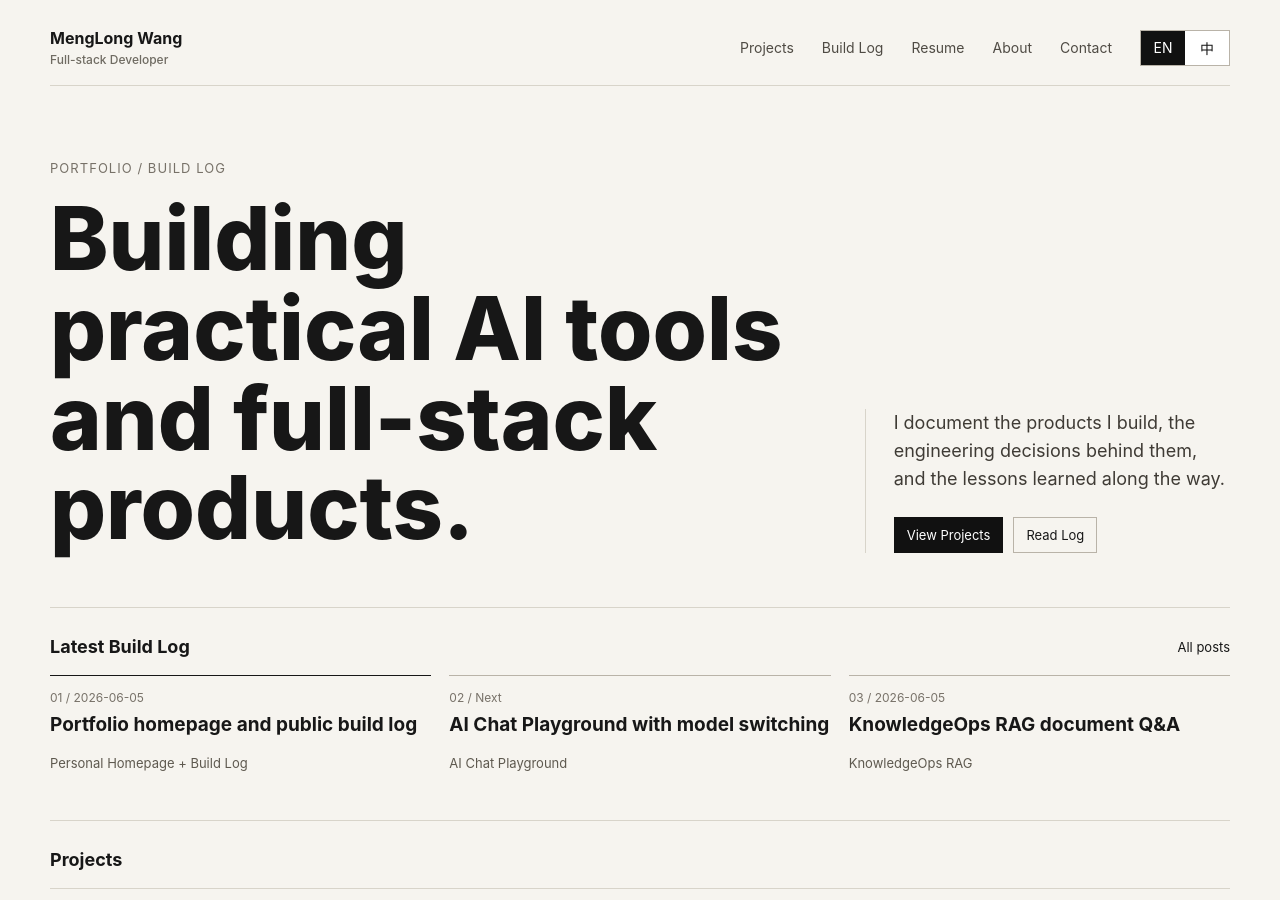
Test case: App › switches to Chinese and persists the preference
What coordinates should you click on to do the following:
click the button "中"
I would click on:
 (1207, 48)
Its box is [1185, 30, 1229, 64].
(page scrolled)
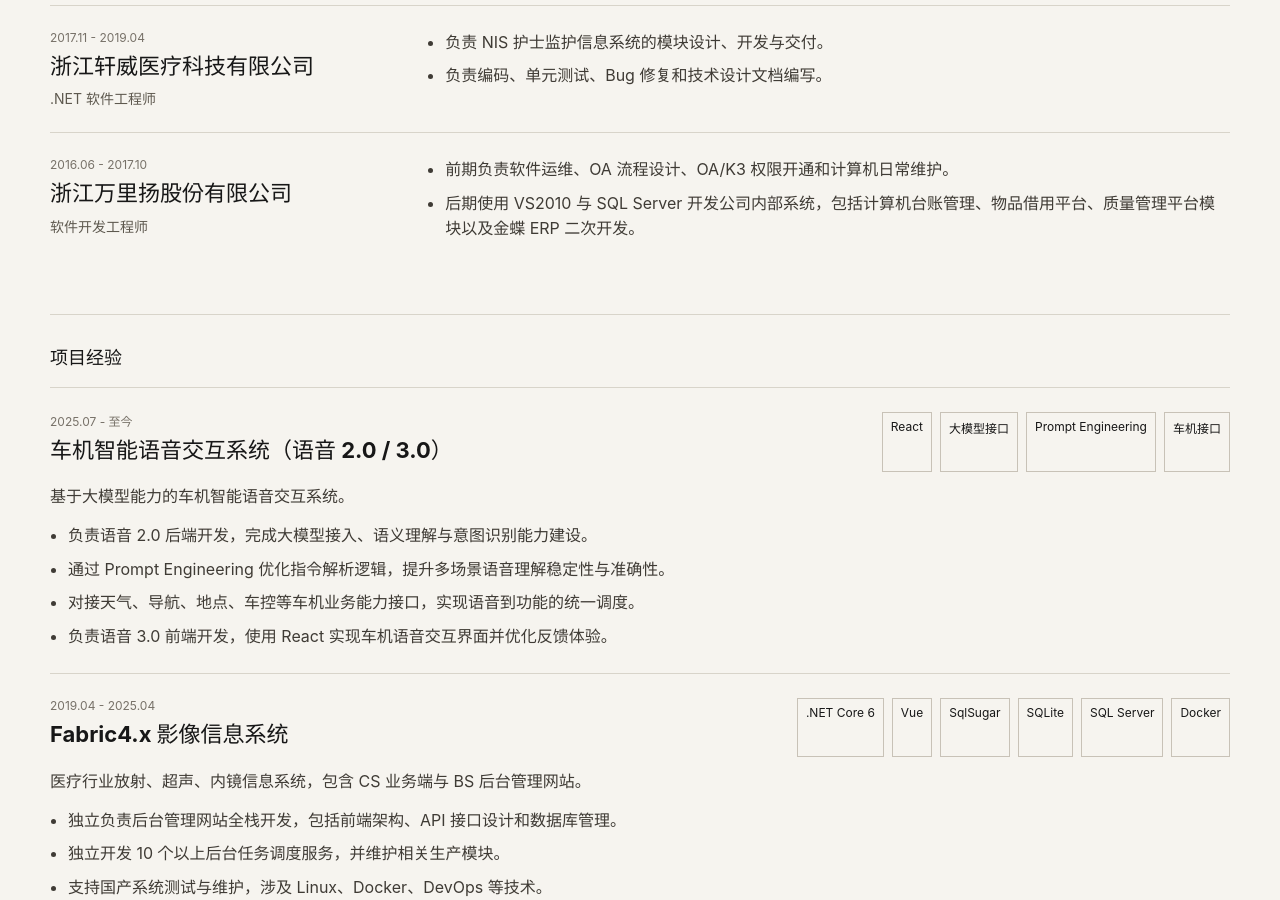
Check: the heading "车机智能语音交互系统（语音 2.0 / 3.0）" is shown, box [50, 437, 453, 463]
